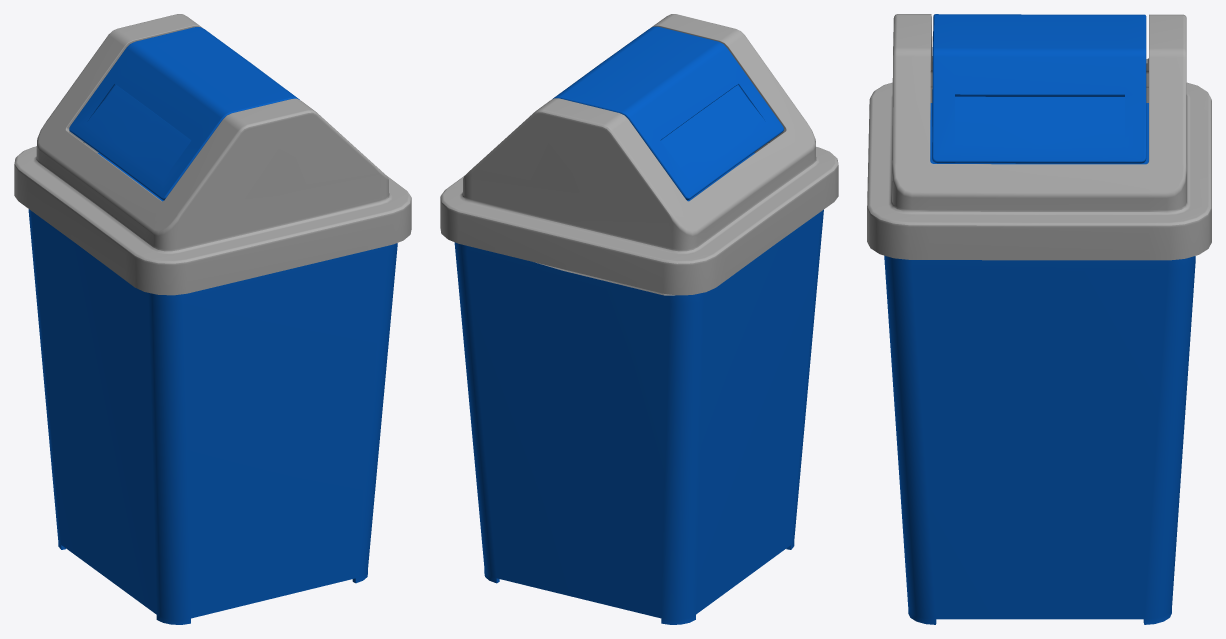
Rendered from trash.fbx.
3 views of the same model, side by side, from view 1: azimuth 30°, elevation 25°; view 2: azimuth 150°, elevation 25°; view 3: azimuth 270°, elevation 25° (orthographic). The views are drawn at different scales.
Visible parts, largest first — view 1: polySurface1, polySurface4, polySurface3; view 2: polySurface1, polySurface4, polySurface3; view 3: polySurface1, polySurface4, polySurface3.
Part boxes in pixels (box(x1,y1,x2,y2)): polySurface1: box(28, 152, 397, 624); polySurface4: box(14, 14, 411, 295); polySurface3: box(69, 27, 299, 200); polySurface1: box(454, 153, 823, 624); polySurface4: box(440, 14, 838, 295); polySurface3: box(552, 26, 783, 200); polySurface1: box(884, 103, 1195, 624); polySurface4: box(867, 14, 1211, 260); polySurface3: box(932, 14, 1146, 163).
Size of the model in its own units: 26.14 by 44.94 by 26.14.
